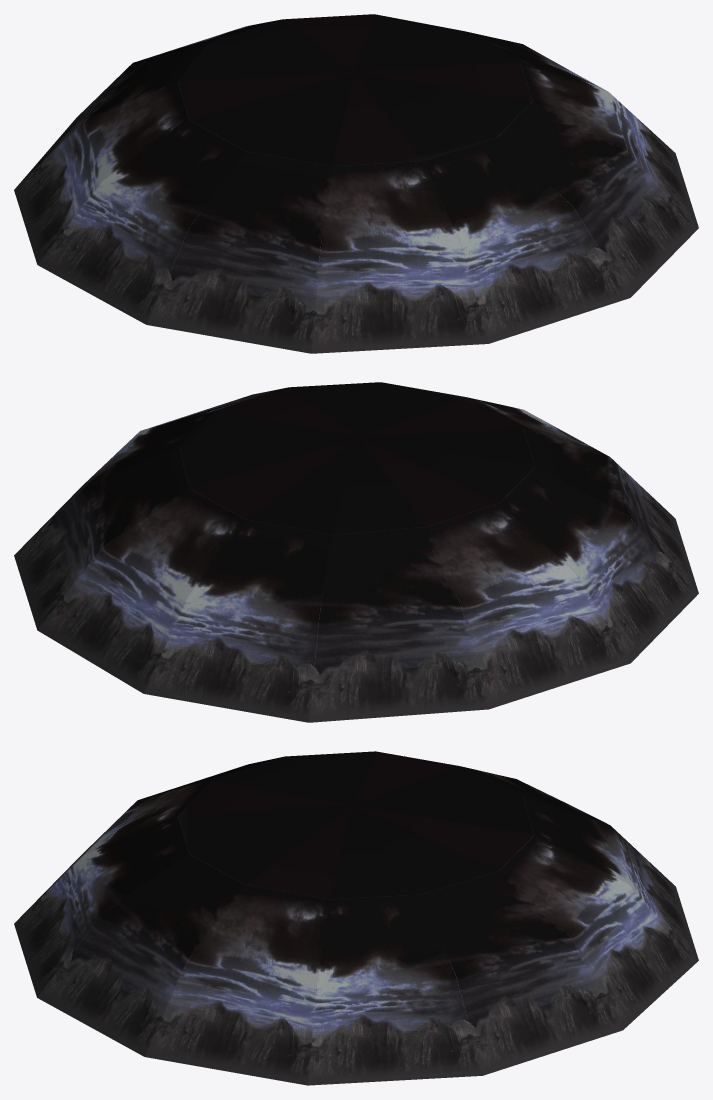
3 views of the same model, one above another, from view 1: azimuth 30°, elevation 25°; view 2: azimuth 150°, elevation 25°; view 3: azimuth 270°, elevation 25° (orthographic).
Parts seen in each view (by area): view 1: Sphere02; view 2: Sphere02; view 3: Sphere02.
Part boxes in pixels (box(x1,y1,x2,y2)): Sphere02: box(14, 14, 698, 353); Sphere02: box(14, 382, 698, 722); Sphere02: box(14, 751, 698, 1085).
Size of the model in its own units: 3761 by 835 by 3807.
